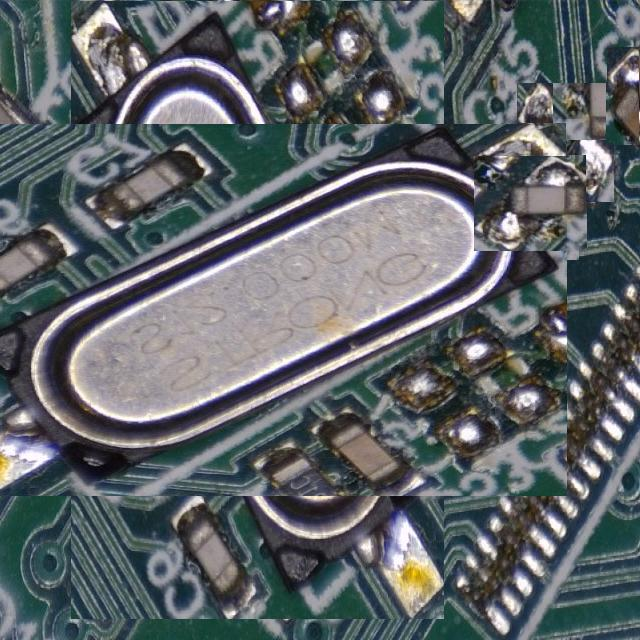Incorrect_installation: (0, 124, 566, 488), (517, 84, 613, 201), (475, 156, 586, 251), (608, 48, 639, 143)
